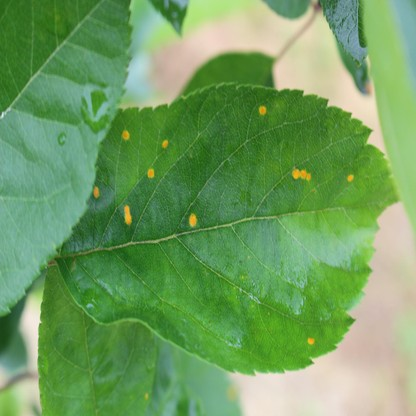rust: (292, 168, 310, 180), (124, 204, 131, 222), (189, 213, 196, 227), (93, 185, 100, 197), (307, 335, 315, 344), (122, 130, 130, 139), (161, 139, 169, 148), (147, 169, 154, 177), (348, 174, 354, 182), (259, 106, 265, 113), (145, 392, 148, 400)
